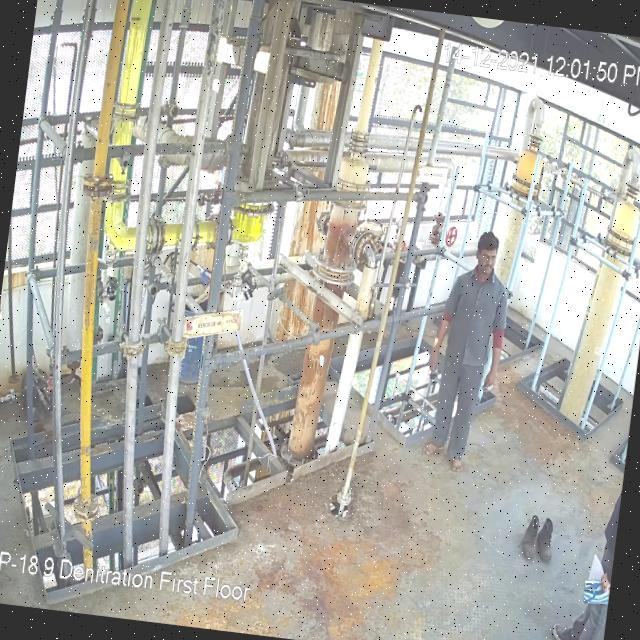boots: (518, 512, 546, 562), (536, 517, 558, 562)
no-boots: (418, 439, 446, 456), (446, 454, 464, 476)
